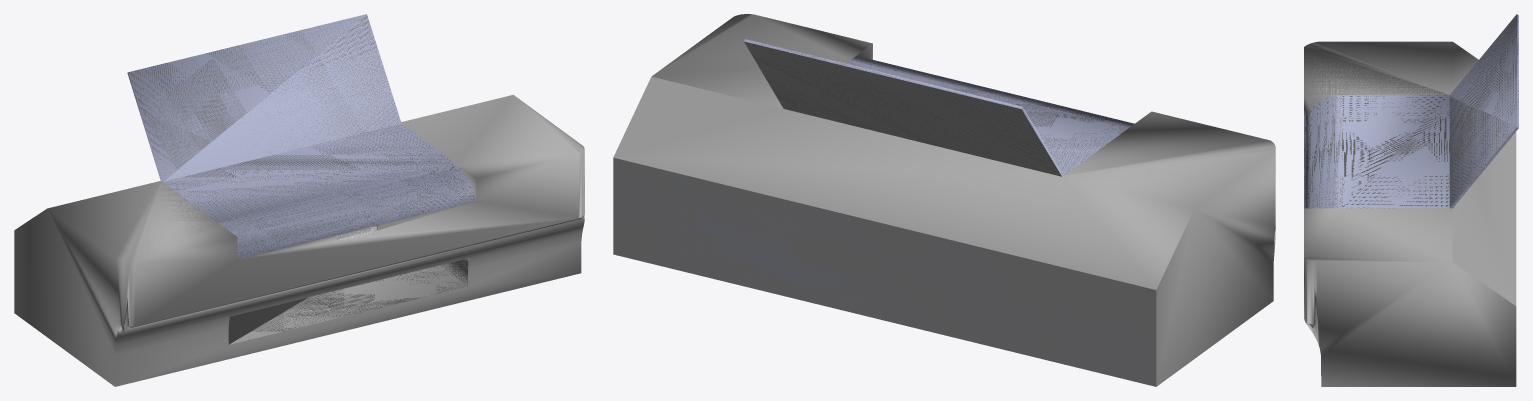
The model's file is Printer.fbx.
3 views of the same model, side by side, from view 1: azimuth 30°, elevation 25°; view 2: azimuth 150°, elevation 25°; view 3: azimuth 270°, elevation 25° (orthographic). The views are drawn at different scales.
Visible parts, largest first — view 1: Model; view 2: Model; view 3: Model.
Part boxes in pixels (bbox=[...]): Model: bbox=[14, 14, 584, 386]; Model: bbox=[613, 14, 1275, 386]; Model: bbox=[1304, 14, 1518, 386].
Bounding box in the file's own units: 4.11 × 1.79 × 1.69.
